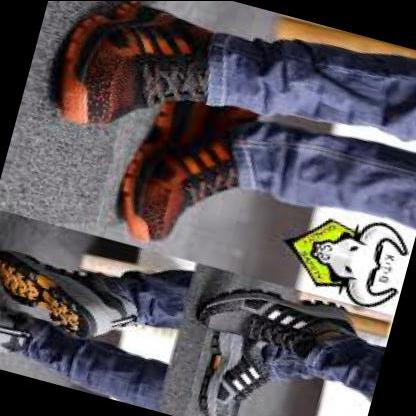safety-shoe: (26, 0, 218, 159), (97, 77, 257, 257), (189, 260, 357, 363), (1, 233, 139, 340), (178, 319, 289, 415), (1, 292, 33, 368)
